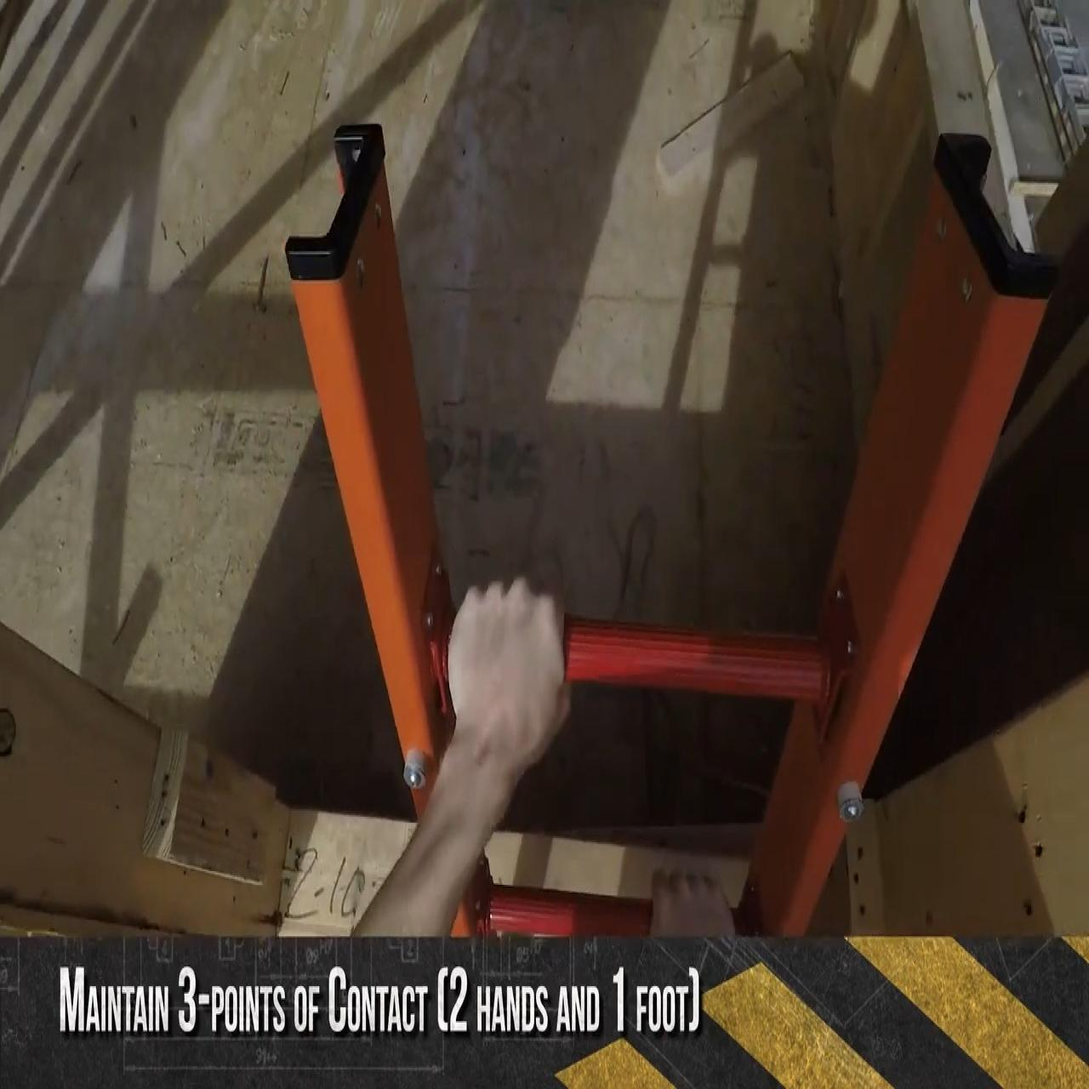Person: (350, 577, 570, 934)
